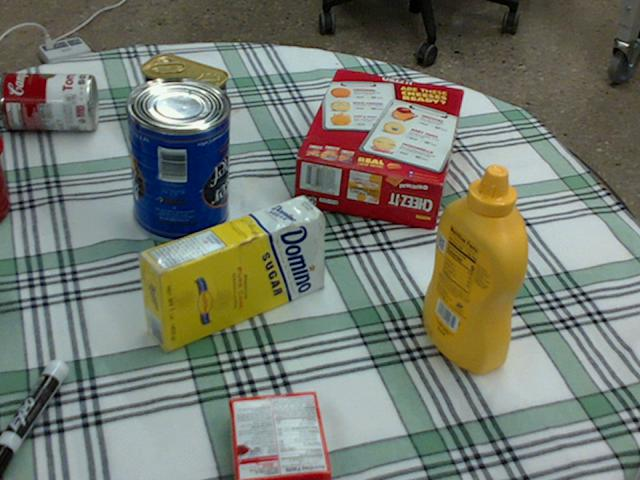cracker_box: (294, 69, 463, 229)
gelatin_box: (227, 392, 328, 479)
large_marker: (0, 359, 67, 472)
master_chef_can: (122, 77, 228, 244)
mug: (0, 133, 9, 218)
mustard_bottle: (423, 164, 527, 371)
potted_meat_can: (140, 55, 227, 148)
sugar_box: (137, 196, 324, 352)
tomato_soup_can: (0, 72, 97, 130)
